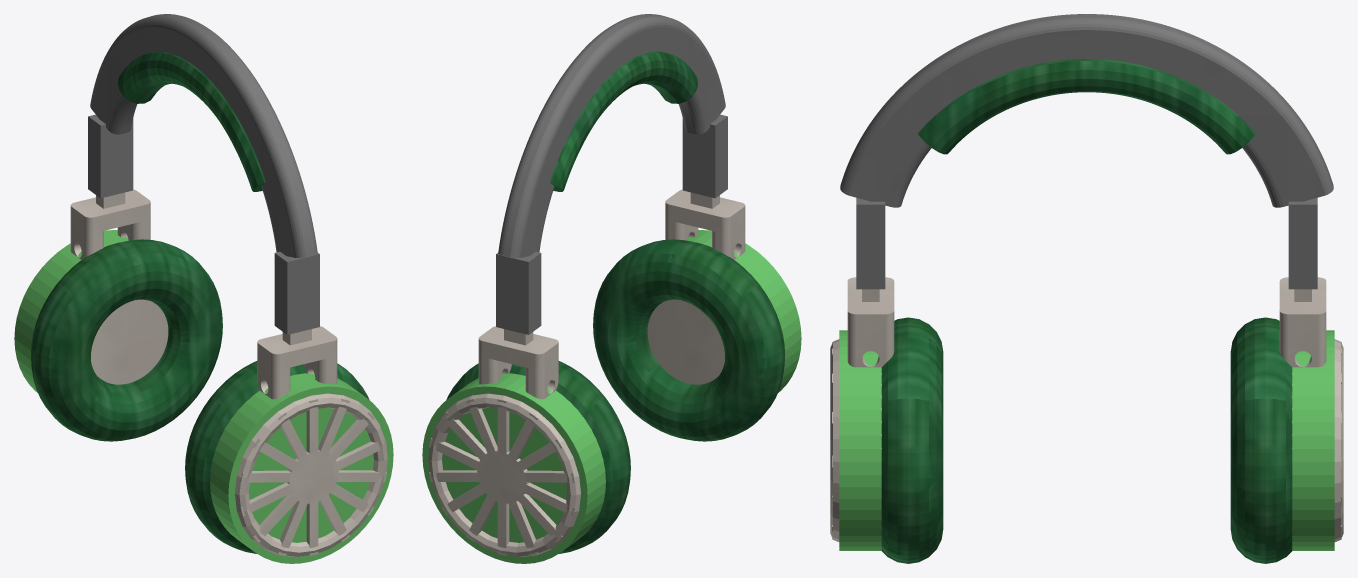
File: Music_Headphone__0279.glb
3 views of the same model, side by side, from view 1: azimuth 30°, elevation 25°; view 2: azimuth 150°, elevation 25°; view 3: azimuth 270°, elevation 25° (orthographic). The views are drawn at different scales.
Parts seen in each view (by area): view 1: left_cup::left_cup_pad, band::band_shell, right_cup::right_cup_shell, right_cup::right_cup_grille_ring, right_cup::right_cup_pad, band::band_pad, left_cup::left_cup_cap, right_yoke::right_yoke_body, left_yoke::left_yoke_body, band::housing_r, left_cup::left_cup_shell, band::housing_l (+14 smaller); view 2: right_cup::right_cup_pad, band::band_shell, left_cup::left_cup_shell, left_cup::left_cup_grille_ring, left_cup::left_cup_pad, band::band_pad, right_cup::right_cup_cap, left_yoke::left_yoke_body, right_yoke::right_yoke_body, band::housing_l, right_cup::right_cup_shell, band::housing_r (+14 smaller); view 3: band::band_shell, left_cup::left_cup_pad, right_cup::right_cup_pad, band::band_pad, left_cup::left_cup_shell, right_cup::right_cup_shell, left_yoke::left_yoke_body, right_yoke::right_yoke_body, band::housing_l, band::housing_r, left_cup::left_cup_grille_ring, right_cup::right_cup_grille_ring.
Part boxes in pixels (bbox=[...]): left_cup::left_cup_pad: bbox=[31, 239, 222, 441]; band::band_shell: bbox=[90, 14, 317, 257]; right_cup::right_cup_shell: bbox=[210, 373, 393, 563]; right_cup::right_cup_grille_ring: bbox=[235, 393, 387, 556]; right_cup::right_cup_pad: bbox=[185, 361, 369, 553]; band::band_pad: bbox=[118, 51, 265, 191]; left_cup::left_cup_cap: bbox=[91, 299, 168, 384]; right_yoke::right_yoke_body: bbox=[257, 326, 337, 399]; left_yoke::left_yoke_body: bbox=[70, 189, 150, 259]; band::housing_r: bbox=[274, 251, 319, 334]; left_cup::left_cup_shell: bbox=[14, 230, 128, 392]; band::housing_l: bbox=[88, 114, 133, 198]; right_cup::right_cup_pad: bbox=[593, 239, 784, 441]; band::band_shell: bbox=[498, 14, 725, 257]; left_cup::left_cup_shell: bbox=[422, 373, 605, 563]; left_cup::left_cup_grille_ring: bbox=[428, 393, 580, 556]; left_cup::left_cup_pad: bbox=[446, 361, 630, 553]; band::band_pad: bbox=[550, 51, 697, 191]; right_cup::right_cup_cap: bbox=[647, 299, 724, 384]; left_yoke::left_yoke_body: bbox=[478, 326, 558, 399]; right_yoke::right_yoke_body: bbox=[665, 189, 745, 259]; band::housing_l: bbox=[496, 251, 541, 334]; right_cup::right_cup_shell: bbox=[687, 230, 801, 392]; band::housing_r: bbox=[682, 114, 727, 198]; band::band_shell: bbox=[840, 14, 1333, 207]; left_cup::left_cup_pad: bbox=[1230, 317, 1292, 563]; right_cup::right_cup_pad: bbox=[881, 317, 943, 563]; band::band_pad: bbox=[918, 59, 1255, 154]; left_cup::left_cup_shell: bbox=[1292, 330, 1334, 550]; right_cup::right_cup_shell: bbox=[839, 330, 881, 550]; left_yoke::left_yoke_body: bbox=[1279, 277, 1326, 367]; right_yoke::right_yoke_body: bbox=[847, 277, 894, 367]; band::housing_l: bbox=[1288, 198, 1317, 289]; band::housing_r: bbox=[856, 198, 885, 289]; left_cup::left_cup_grille_ring: bbox=[1334, 339, 1343, 541]; right_cup::right_cup_grille_ring: bbox=[830, 339, 839, 541].
Size of the model in its own units: 0.0847 by 0.2033 by 0.1763.
4 materials, 3 textured.
